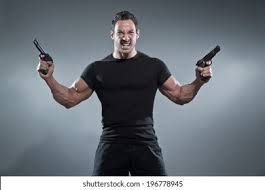gun: (193, 43, 225, 85), (31, 36, 56, 80)
